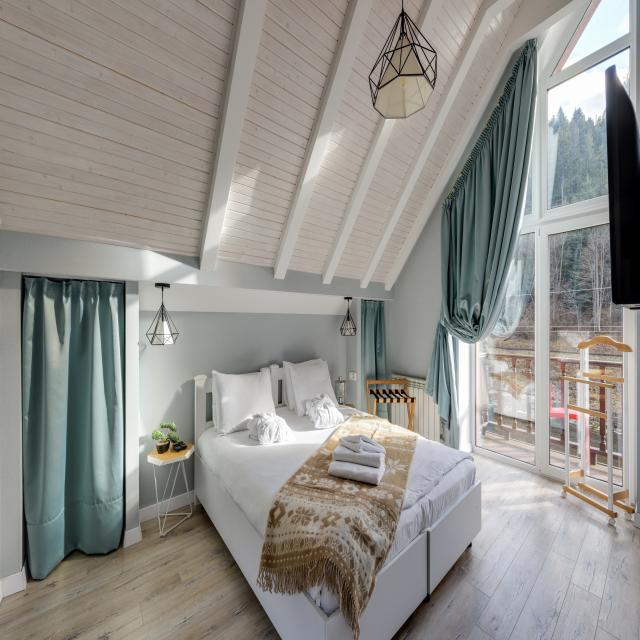floor: (390, 451, 640, 640), (0, 503, 282, 640)
wall: (390, 43, 527, 380), (360, 0, 516, 288), (139, 311, 346, 524), (370, 0, 525, 282), (334, 0, 485, 279), (360, 0, 499, 288), (216, 0, 354, 267), (287, 0, 402, 274), (0, 228, 395, 300), (274, 0, 374, 280), (273, 0, 358, 278), (200, 0, 267, 271), (199, 0, 246, 270), (322, 119, 397, 284), (322, 116, 386, 283), (0, 269, 25, 598), (123, 281, 144, 548), (346, 298, 358, 410), (420, 0, 444, 41), (417, 0, 432, 31), (357, 298, 361, 411), (386, 300, 390, 380), (384, 300, 386, 380)
